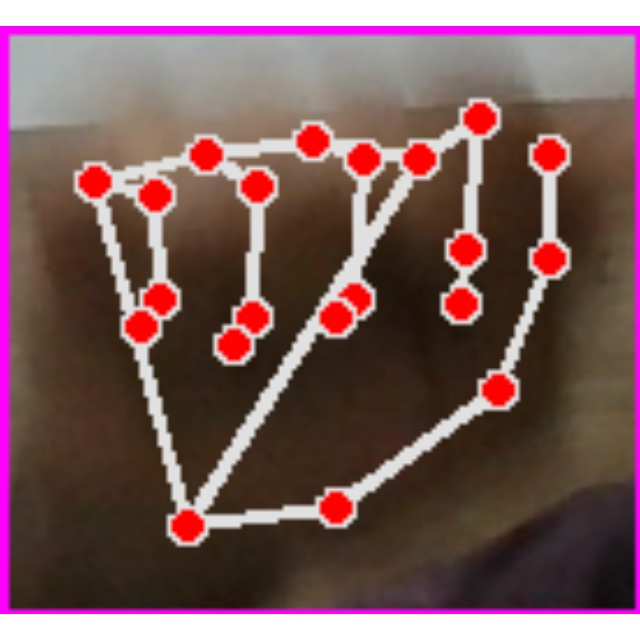A: (0, 26, 640, 614)
